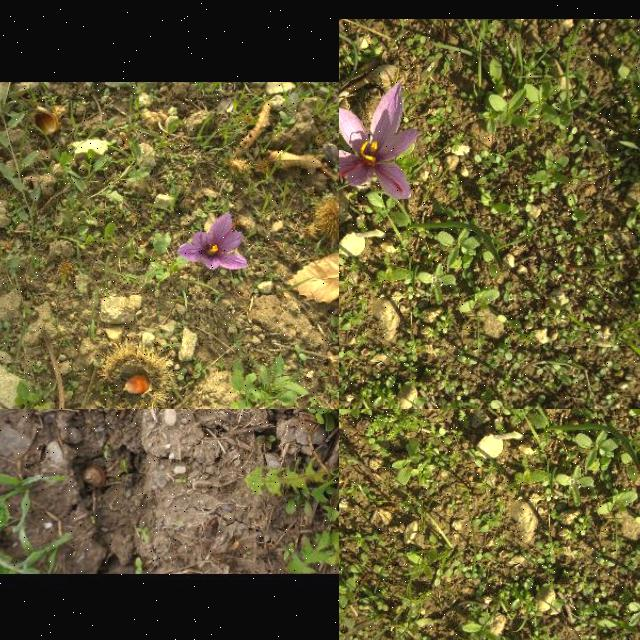flower: (339, 84, 423, 200), (177, 212, 250, 270)
